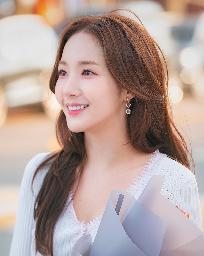face: (57, 36, 115, 130)
